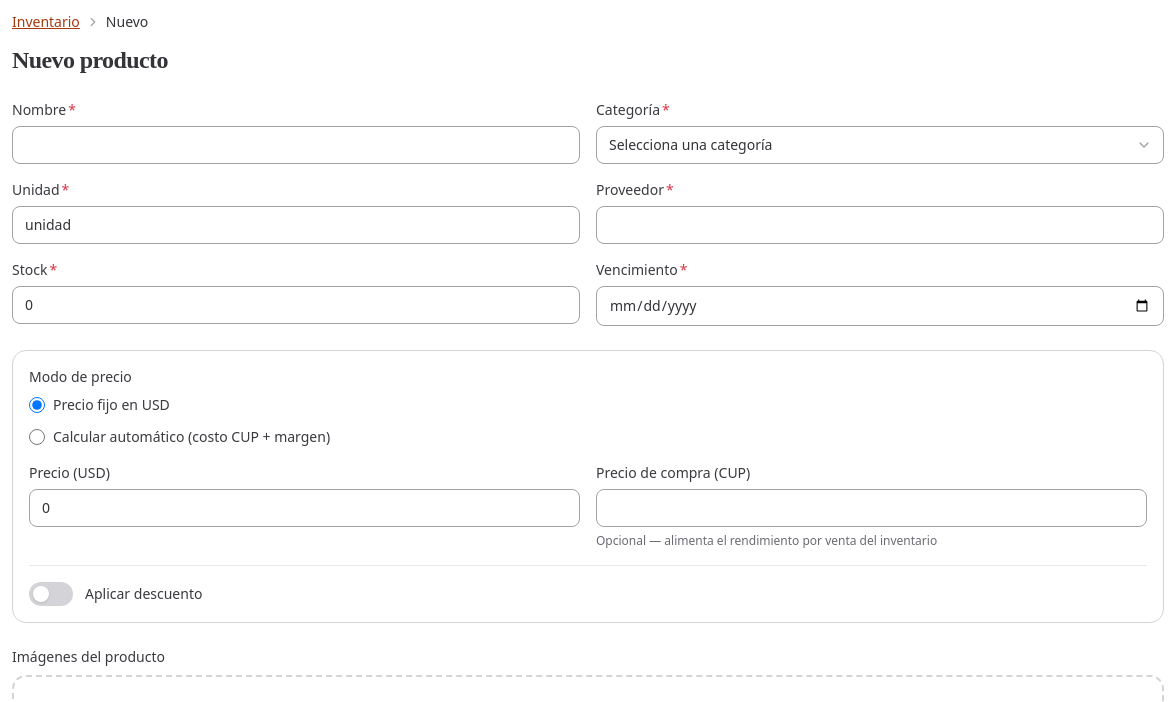
Test case: AdminProductFormPage › en modo automático calcula el precio a partir del precio de compra y margen USD
The width and height of the screenshot is (1176, 702).
Click the radio button labelled "Calcular automático (costo CUP + margen)".
click(37, 437)  # box [29, 429, 45, 445]
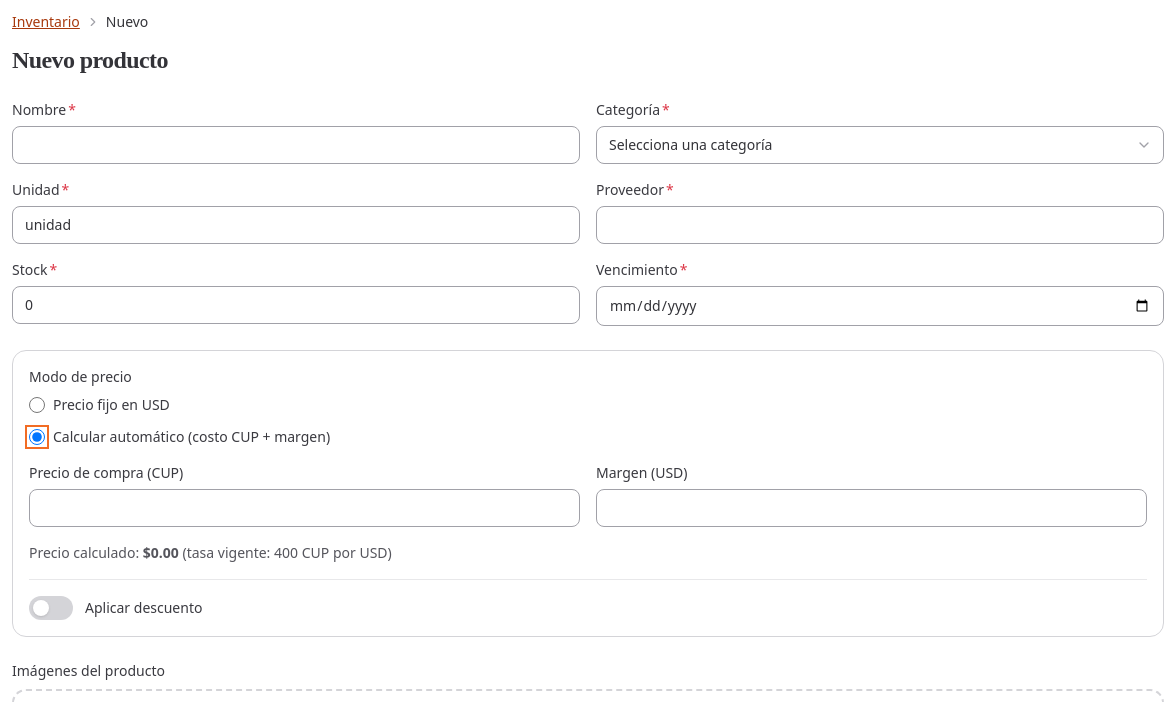
Type "400" into the number field labelled "Precio de compra (CUP)".
click(304, 508); type("400")  # box [29, 489, 580, 527]
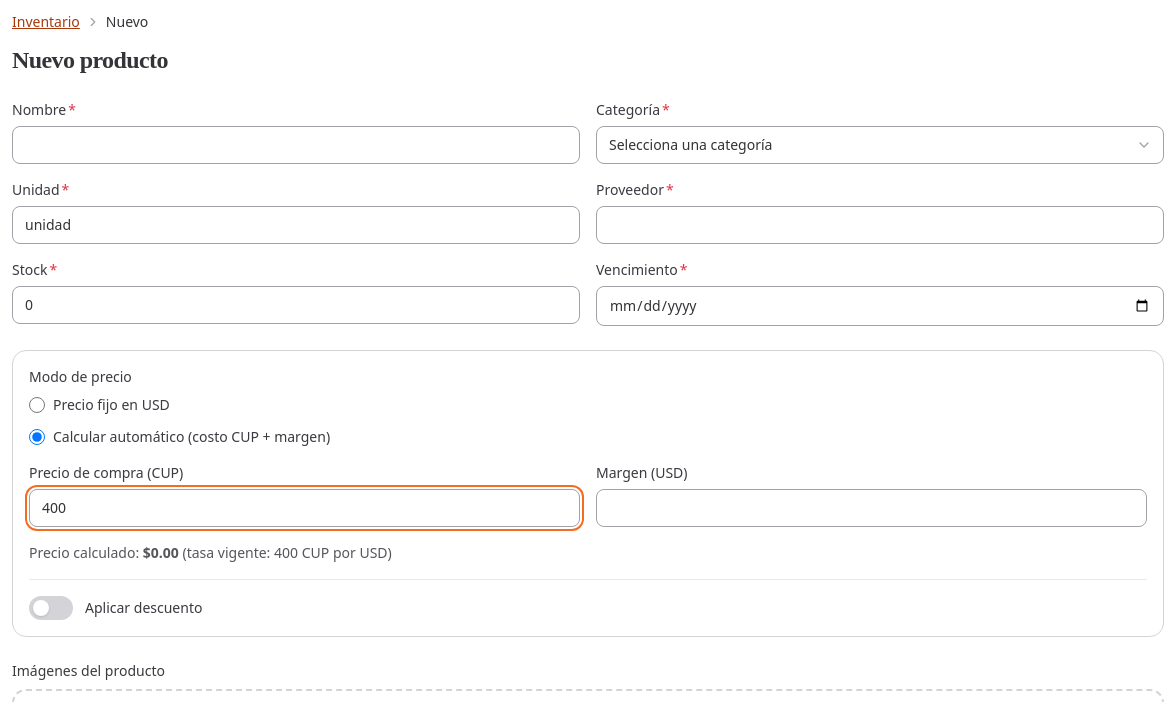
Type "0.5" into the number field labelled "Margen (USD)".
click(872, 508); type("0.5")  # box [596, 489, 1147, 527]
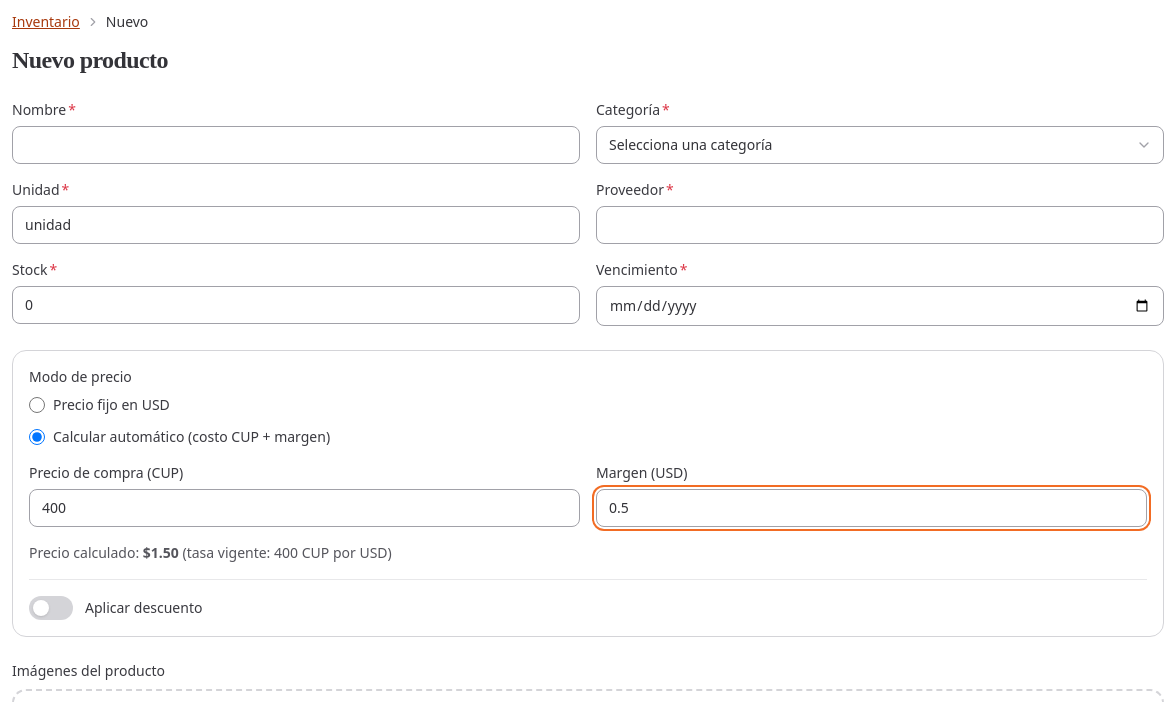
expect the text "$1.50" is shown: met, box [143, 543, 179, 562]
